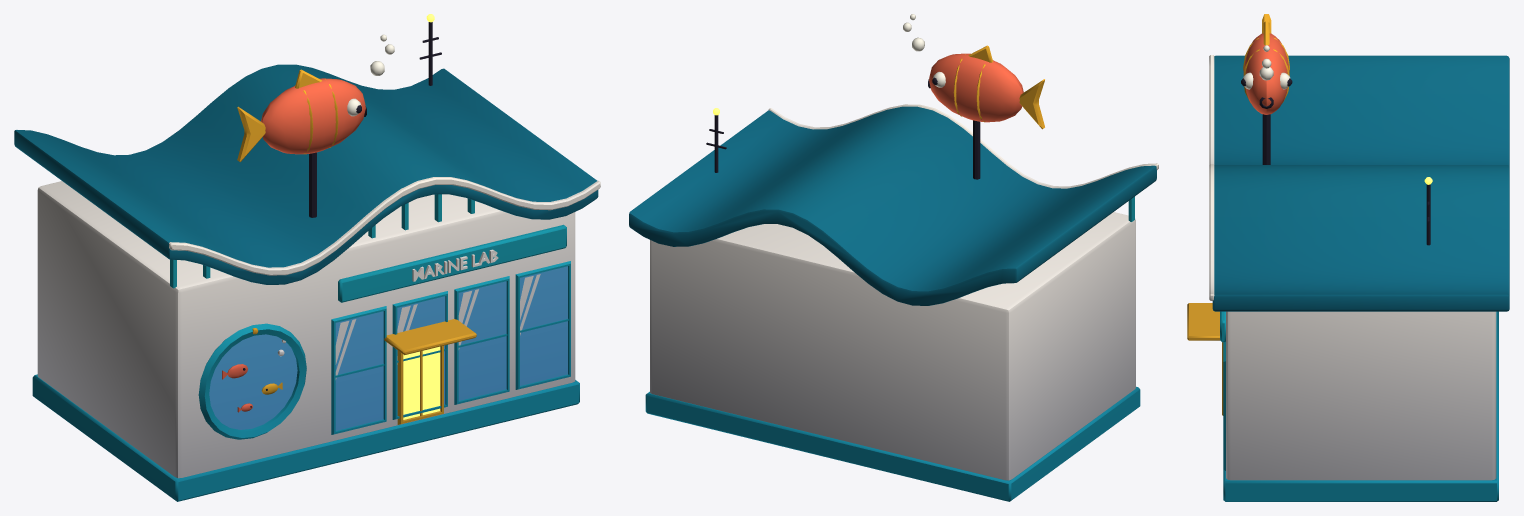
The model's file is aquarium_lab.glb.
The picture shows the model from 3 angles, left to right: view 1: azimuth 30°, elevation 25°; view 2: azimuth 150°, elevation 25°; view 3: azimuth 270°, elevation 25°; orthographic projection. The views are drawn at different scales.
Visible parts, largest first — view 1: aquarium_lab; view 2: aquarium_lab; view 3: aquarium_lab.
Boxes of the visible parts, x1,y1,x2,y2 form: aquarium_lab: (14, 14, 600, 501); aquarium_lab: (629, 14, 1158, 501); aquarium_lab: (1187, 14, 1509, 501).
Bounding box in the file's own units: 14 × 12.3 × 9.55.
